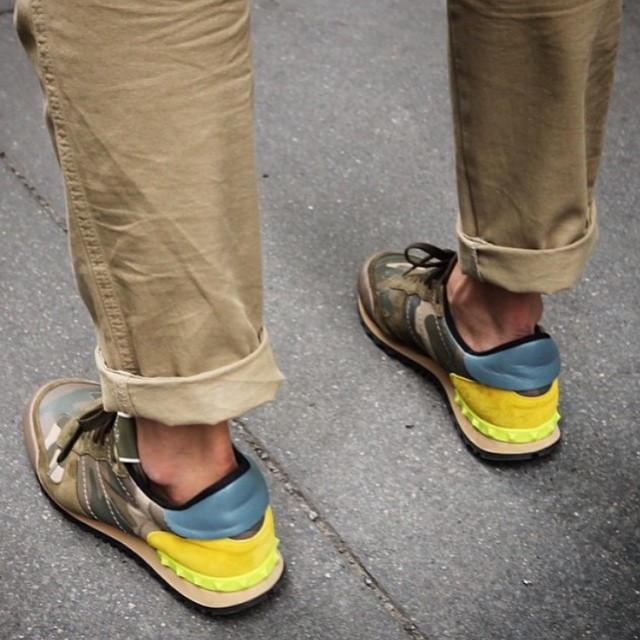sneaker: (5, 348, 316, 634), (330, 233, 587, 492)
